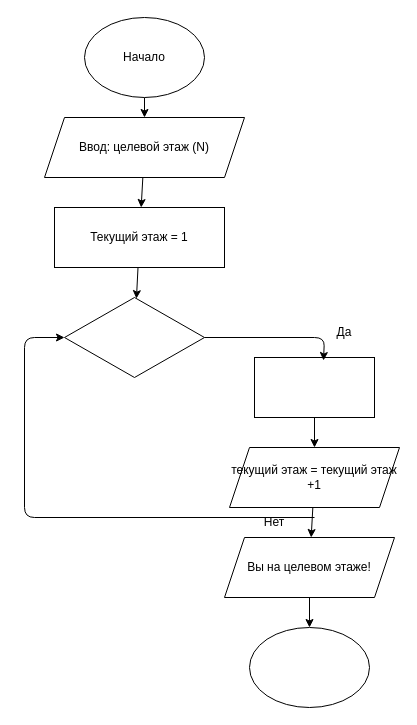
The diagram is 417 pixels wide and 725 high, and some of its shapes have lost their labels. The shapes that lost their labels are listed below. From the top down, each one's box as (x1, y1, x2, y2) in pixels, then its label:
(64, 296, 204, 378): Текузий этаж < N?
(254, 356, 374, 418): Поднять на этаж выше
(248, 626, 370, 708): Конец
